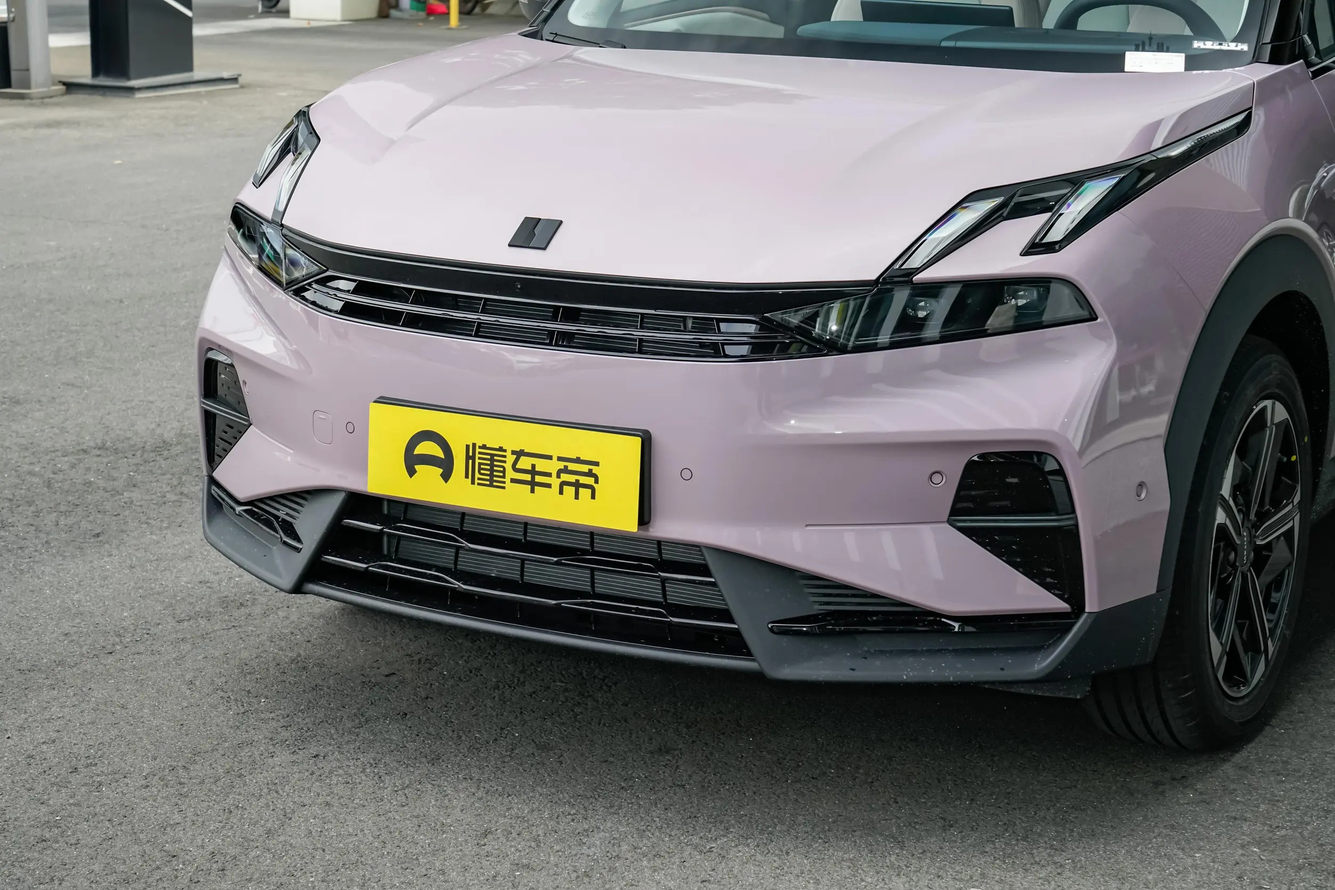LINK&CO: (508, 217, 562, 250)
